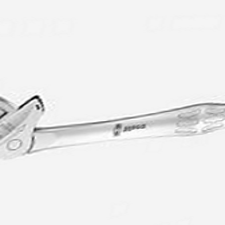wrench: (1, 67, 225, 154)
